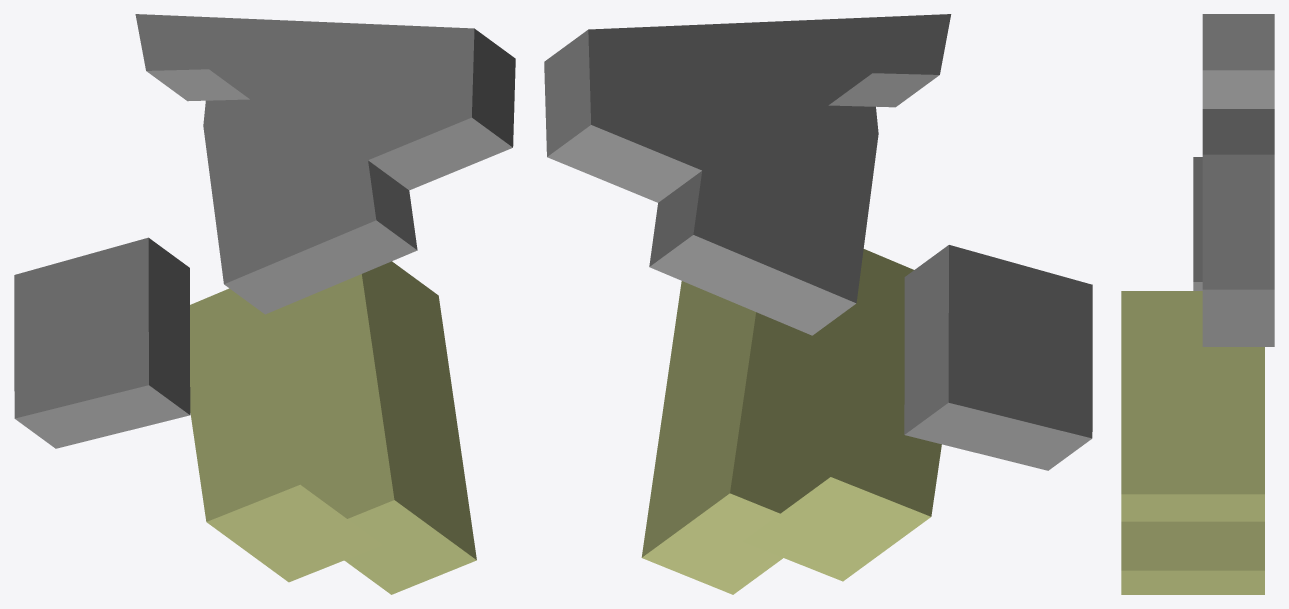
The picture shows the model from 3 angles, left to right: view 1: azimuth 30°, elevation 25°; view 2: azimuth 150°, elevation 25°; view 3: azimuth 270°, elevation 25°; orthographic projection. The views are drawn at different scales.
Parts seen in each view (by area): view 1: 0_1_0_0_1_3_2_2_3_1; view 2: 0_1_0_0_1_3_2_2_3_1; view 3: 0_1_0_0_1_3_2_2_3_1.
Part boxes in pixels (left/top/right/bottom): 0_1_0_0_1_3_2_2_3_1: left=14, top=14, right=515, bottom=594; 0_1_0_0_1_3_2_2_3_1: left=544, top=14, right=1092, bottom=594; 0_1_0_0_1_3_2_2_3_1: left=1121, top=14, right=1274, bottom=594.
Size of the model in its own units: 19.55 by 22.36 by 6.4.
